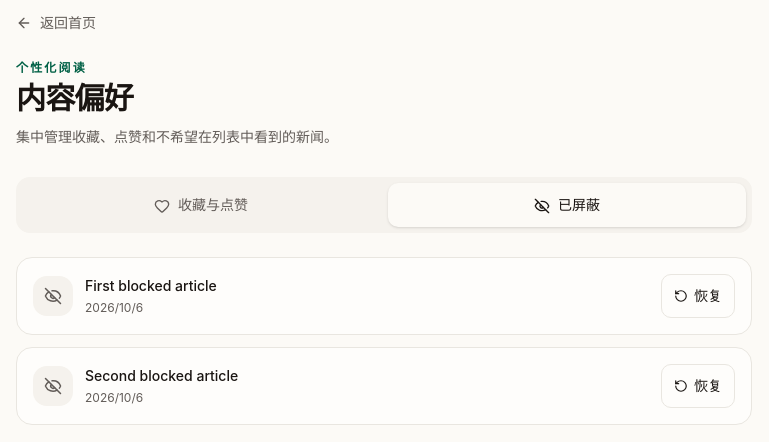
FavoritesPage unblock › moves focus to the next restore action after a blocked item is removed
Click the button "恢复" in the row of "First blocked article" at [698, 296], box [661,274,735,318]
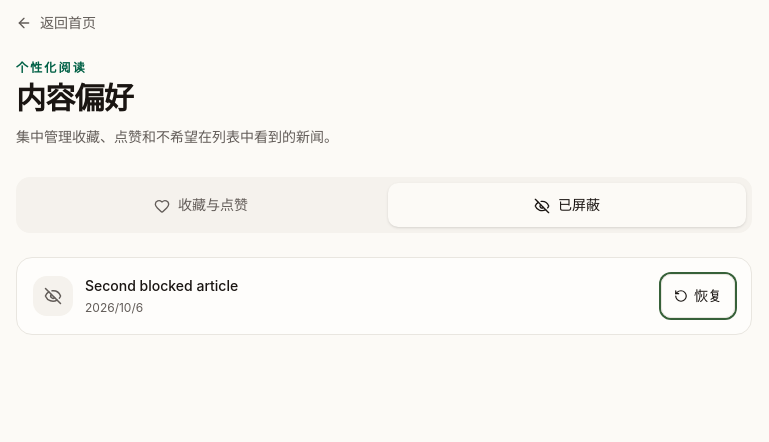
Expected: the heading "First blocked article" is gone
